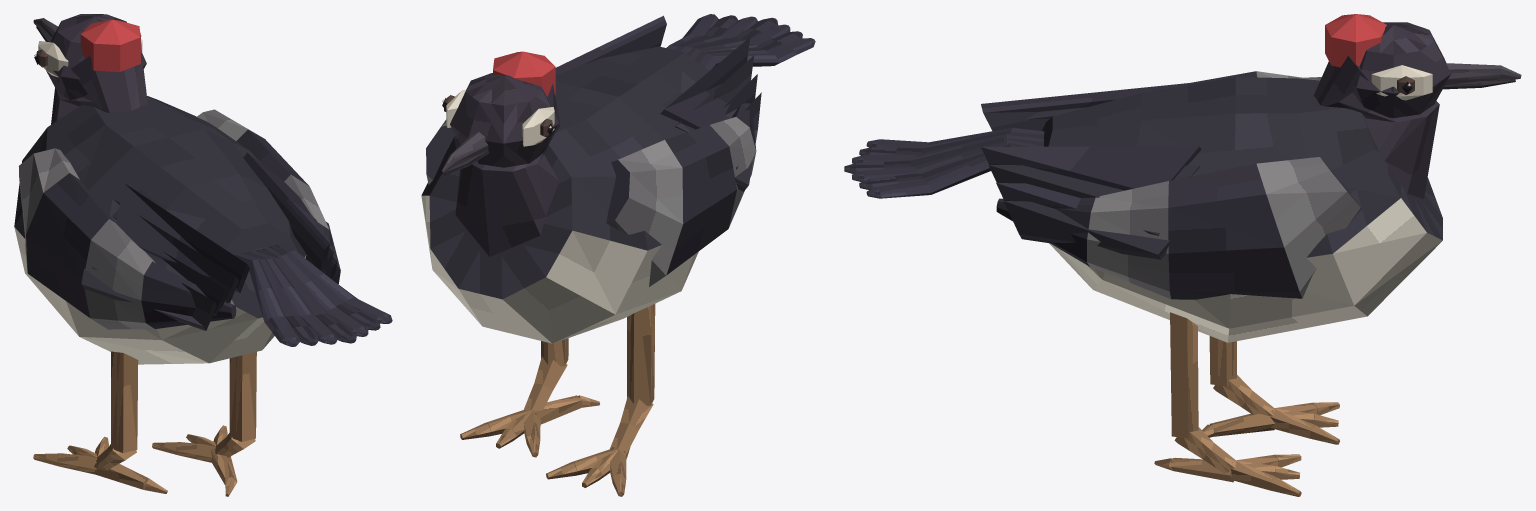
File: mon_woodpecker.glb
3 views of the same model, side by side, from view 1: azimuth 30°, elevation 25°; view 2: azimuth 150°, elevation 25°; view 3: azimuth 270°, elevation 25° (orthographic). The views are drawn at different scales.
Parts seen in each view (by area): view 1: closed_body; view 2: closed_body; view 3: closed_body.
Part boxes in pixels (x1,y1,x2,y2): closed_body: (14,14,392,496); closed_body: (421,14,815,496); closed_body: (844,14,1521,496).
Size of the model in its own units: 0.0501 by 0.0803 by 0.1117.
Materials: 1 (1 with a texture image).
